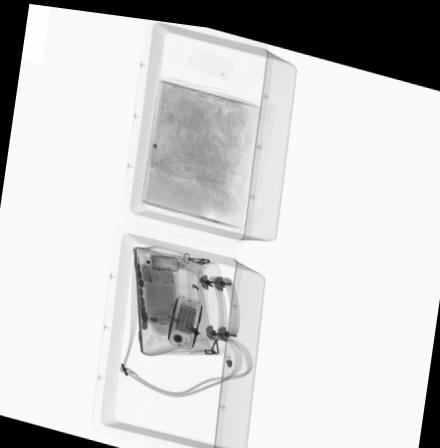Lighter: (141, 260, 154, 282)
